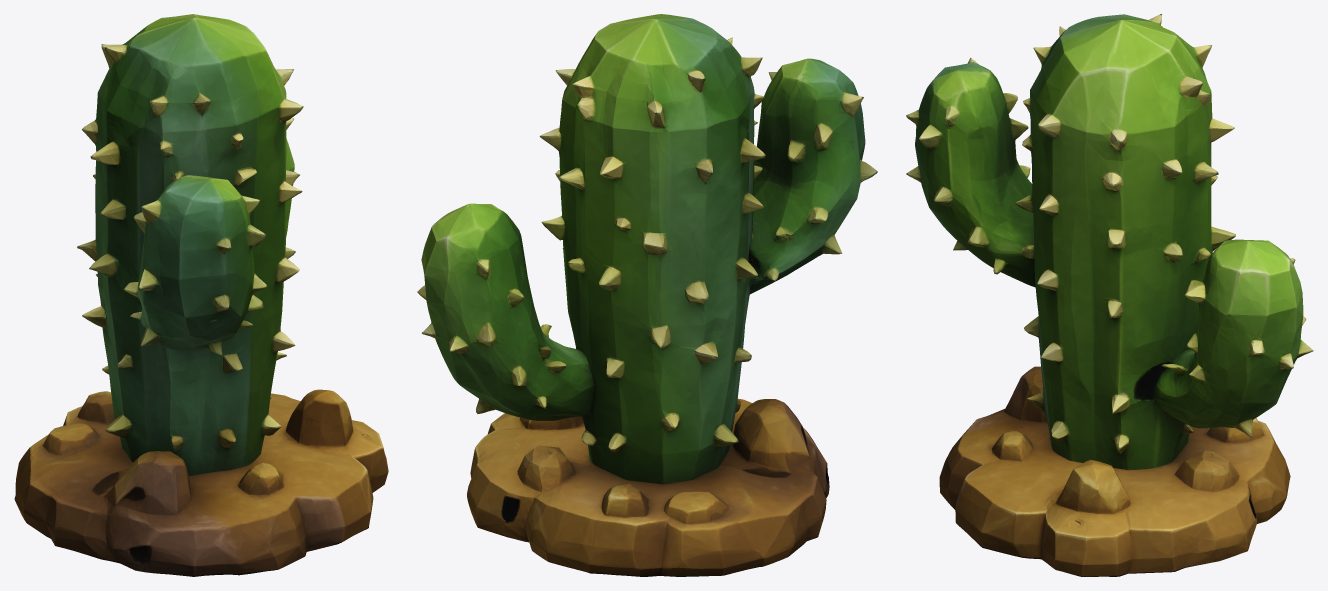
Rendered from cactus_1.glb.
The picture shows the model from 3 angles, left to right: view 1: azimuth 30°, elevation 25°; view 2: azimuth 150°, elevation 25°; view 3: azimuth 270°, elevation 25°; orthographic projection. The views are drawn at different scales.
Parts seen in each view (by area): view 1: world; view 2: world; view 3: world.
Part boxes in pixels (box(x1,y1,x2,y2)): world: box(14, 14, 388, 576); world: box(417, 14, 877, 576); world: box(906, 14, 1313, 576).
Size of the model in its own units: 0.7043 by 1 by 0.7711.
1 material, 1 textured.
